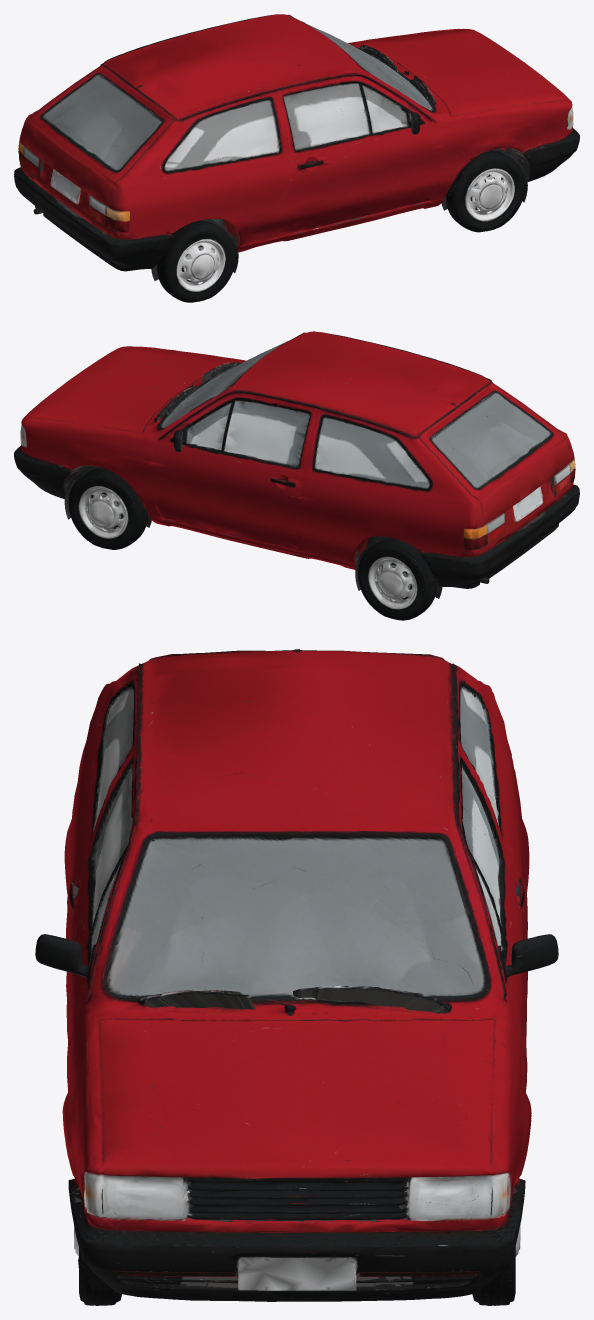
The model's file is hatch-quadrado-v2.glb.
3 views of the same model, one above another, from view 1: azimuth 30°, elevation 25°; view 2: azimuth 150°, elevation 25°; view 3: azimuth 270°, elevation 25° (orthographic). The views are drawn at different scales.
Parts seen in each view (by area): view 1: body, door_fr, hood, trunk, fender_front_right, glass_rear, glass_door_fr, glass_door_rr, side_skirt_right, wheel_rr_tire, wheel_fr_tire, glass_windshield (+8 smaller); view 2: body, hood, door_fl, trunk, fender_front_left, glass_rear, glass_door_fl, glass_door_rl, side_skirt_left, wheel_rl_tire, wheel_fl_tire, glass_windshield (+8 smaller); view 3: body, glass_windshield, hood, bumper_front, fender_front_right, fender_front_left, headlight_left, headlight_right, plate_front, glass_door_fr, glass_door_fl, glass_door_rr (+8 smaller).
Boxes of the visible parts, bbox=[...] form: body: bbox=[14, 14, 579, 280]; door_fr: bbox=[292, 123, 423, 224]; hood: bbox=[361, 31, 566, 108]; trunk: bbox=[17, 66, 177, 251]; fender_front_right: bbox=[420, 99, 545, 192]; glass_rear: bbox=[40, 72, 167, 172]; glass_door_fr: bbox=[283, 80, 409, 152]; glass_door_rr: bbox=[162, 95, 282, 174]; side_skirt_right: bbox=[227, 187, 449, 252]; wheel_rr_tire: bbox=[157, 220, 235, 302]; wheel_fr_tire: bbox=[446, 150, 525, 232]; glass_windshield: bbox=[288, 15, 437, 112]; body: bbox=[14, 331, 579, 598]; hood: bbox=[27, 348, 227, 427]; door_fl: bbox=[170, 448, 304, 541]; trunk: bbox=[417, 384, 576, 568]; fender_front_left: bbox=[48, 416, 173, 510]; glass_rear: bbox=[428, 387, 553, 489]; glass_door_fl: bbox=[182, 398, 310, 470]; glass_door_rl: bbox=[311, 414, 430, 492]; side_skirt_left: bbox=[144, 505, 366, 569]; wheel_rl_tire: bbox=[357, 537, 436, 620]; wheel_fl_tire: bbox=[68, 468, 147, 549]; glass_windshield: bbox=[154, 332, 308, 430]; body: bbox=[56, 649, 542, 1301]; glass_windshield: bbox=[103, 822, 492, 1013]; hood: bbox=[118, 1011, 475, 1175]; bumper_front: bbox=[76, 1235, 516, 1301]; fender_front_right: bbox=[62, 972, 169, 1211]; fender_front_left: bbox=[424, 972, 531, 1211]; headlight_left: bbox=[401, 1165, 511, 1226]; headlight_right: bbox=[82, 1165, 192, 1225]; plate_front: bbox=[232, 1256, 361, 1290]; glass_door_fr: bbox=[83, 759, 133, 963]; glass_door_fl: bbox=[461, 761, 510, 965]; glass_door_rr: bbox=[90, 681, 137, 839].
Bounding box in the file's own units: 3.81 × 1.43 × 1.83.
7 materials, 5 textured.
